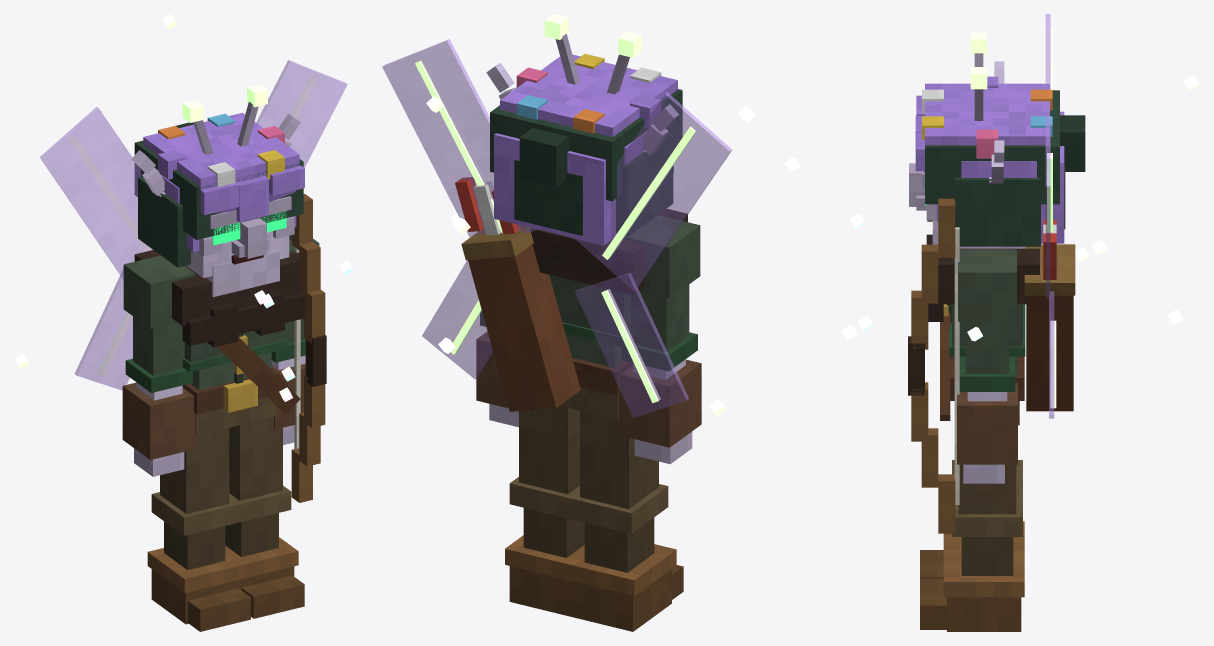
The model's file is fairy_chasseur_v3.glb.
3 renders of one model, left to right at view 1: azimuth 30°, elevation 25°; view 2: azimuth 150°, elevation 25°; view 3: azimuth 270°, elevation 25°, orthographic. The views are drawn at different scales.
Visible parts, largest first — view 1: Torso, Head, LegR, ArmR, LegL, HandL, ArmL; view 2: Torso, Head, LegR, ArmR, LegL, ArmL; view 3: Head, Torso, ArmL, LegL, HandL, LegR.
Part boxes in pixels (x1=…): Torso: x1=14, y1=14, x2=353, y2=435; Head: x1=131, y1=84, x2=304, y2=297; LegR: x1=147, y1=428, x2=250, y2=631; ArmR: x1=122, y1=255, x2=195, y2=476; LegL: x1=225, y1=417, x2=304, y2=618; HandL: x1=291, y1=194, x2=326, y2=502; ArmL: x1=271, y1=239, x2=319, y2=444; Torso: x1=382, y1=39, x2=755, y2=419; Head: x1=486, y1=14, x2=682, y2=245; LegR: x1=565, y1=411, x2=683, y2=631; ArmR: x1=618, y1=215, x2=701, y2=464; LegL: x1=505, y1=406, x2=584, y2=616; ArmL: x1=476, y1=311, x2=529, y2=427; Head: x1=909, y1=32, x2=1085, y2=248; Torso: x1=784, y1=14, x2=1199, y2=425; ArmL: x1=957, y1=249, x2=1017, y2=483; LegL: x1=920, y1=464, x2=1024, y2=631; HandL: x1=908, y1=198, x2=959, y2=533; LegR: x1=920, y1=460, x2=1024, y2=578.
Size of the model in its own units: 0.7287 by 1.11 by 0.7622.
Materials: 51 (51 with a texture image).
